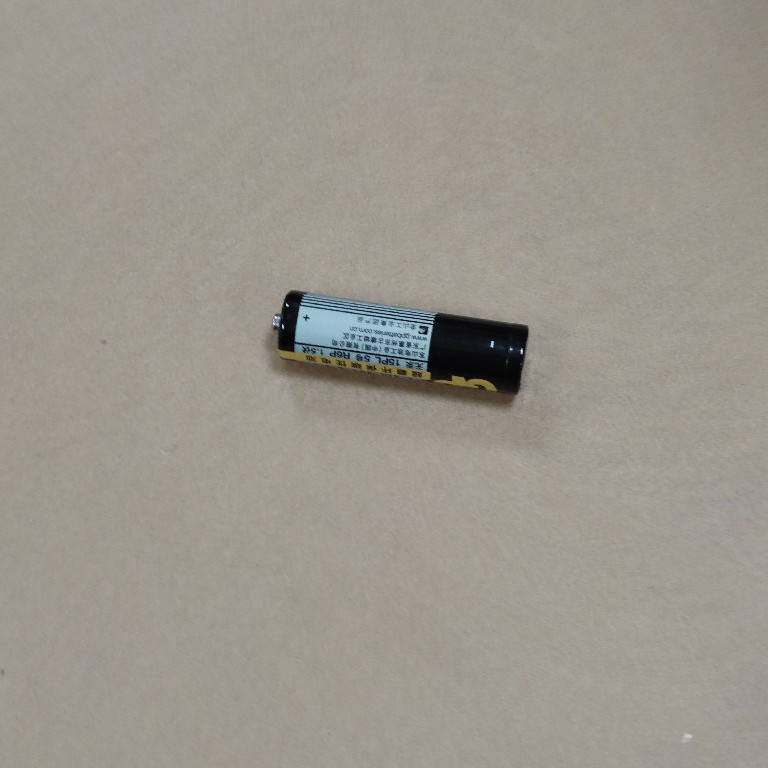charge: (264, 283, 538, 406)
